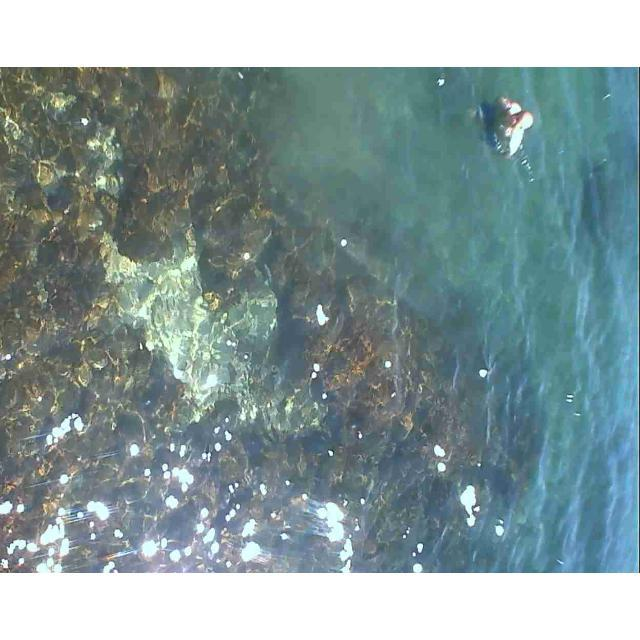human: (478, 92, 535, 167)
